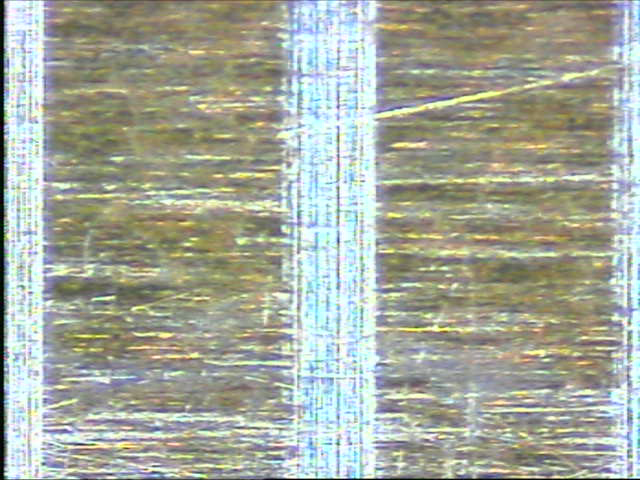line: (281, 1, 379, 477)
